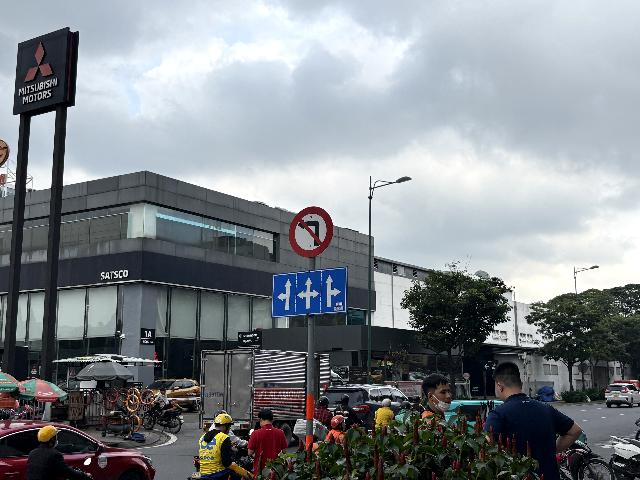cam-re-trai: (288, 206, 334, 258)
